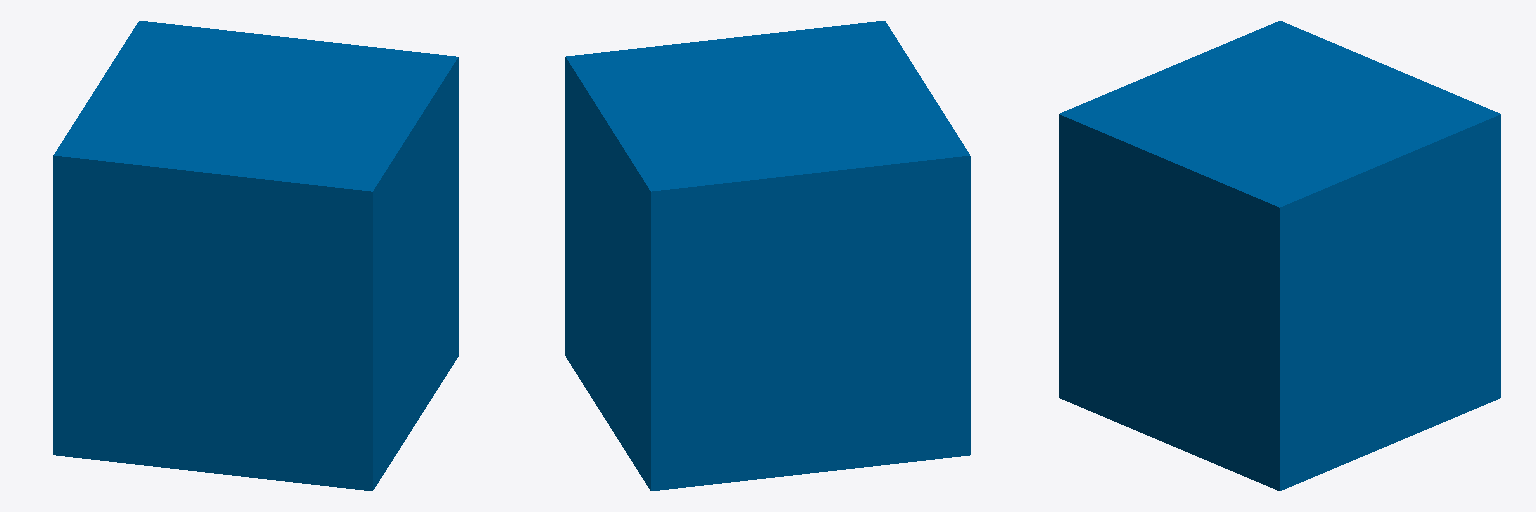
The robot description file, URDF, robot "panda":
<?xml version="1.0" ?>
<!-- =================================================================================== -->
<!-- |    This document was autogenerated by xacro from /opt/ros/kinetic/share/moveit_resources/panda/urdf/panda.urdf | -->
<!-- |    EDITING THIS FILE BY HAND IS NOT RECOMMENDED                                 | -->
<!-- =================================================================================== -->
<robot name="panda" xmlns:xacro="http://www.ros.org/wiki/xacro">
    <link name="panda_link0">
        <inertial>
            <origin rpy="0 0 0" xyz="0 0 0.05"/>
            <mass value="2.9"/>
            <inertia ixx="0.1" ixy="0" ixz="0" iyy="0.1" iyz="0" izz="0.1"/>
        </inertial>
        <visual>
            <geometry>
                <mesh filename="meshes/visual/link0.dae" />
            </geometry>
            <material name="panda_white">
              <color rgba="1. 1. 1. 1."/>
            </material>
        </visual>
        <collision>
            <geometry>
                <mesh filename="meshes/collision/link0.stl" />
            </geometry>
        </collision>
    </link>
    <link name="panda_link1">
        <inertial>
            <origin rpy="0 0 0" xyz="0 -0.04 -0.05"/>
            <mass value="2.7"/>
            <inertia ixx="0.1" ixy="0" ixz="0" iyy="0.1" iyz="0" izz="0.1"/>
        </inertial>
        <visual>
            <geometry>
                <mesh filename="meshes/visual/link1.dae" />
            </geometry>
            <material name="panda_white"/>
        </visual>
        <collision>
            <geometry>
                <mesh filename="meshes/collision/link1.stl" />
            </geometry>
            <material name="panda_white"/>
        </collision>
    </link>
    <joint name="panda_joint1" type="revolute">
        <safety_controller k_position="100.0" k_velocity="40.0" soft_lower_limit="-2.8973" soft_upper_limit="2.8973" />
        <origin rpy="0 0 0" xyz="0 0 0.333" />
        <parent link="panda_link0" />
        <child link="panda_link1" />
        <axis xyz="0 0 1" />
        <limit effort="87" lower="-2.9671" upper="2.9671" velocity="2.3925" />
    </joint>
    <link name="panda_link2">
        <inertial>
           <origin rpy="0 0 0" xyz="0 -0.04 0.06"/>
           <mass value="2.73"/>
           <inertia ixx="0.1" ixy="0" ixz="0" iyy="0.1" iyz="0" izz="0.1"/>
        </inertial>
        <visual>
            <geometry>
                <mesh filename="meshes/visual/link2.dae" />
            </geometry>
            <material name="panda_white"/>
        </visual>
        <collision>
            <geometry>
                <mesh filename="meshes/collision/link2.stl" />
            </geometry>
            <material name="panda_white"/>
        </collision>
    </link>
    <joint name="panda_joint2" type="revolute">
        <safety_controller k_position="100.0" k_velocity="40.0" soft_lower_limit="-1.7628" soft_upper_limit="1.7628" />
        <origin rpy="-1.57079632679 0 0" xyz="0 0 0" />
        <parent link="panda_link1" />
        <child link="panda_link2" />
        <axis xyz="0 0 1" />
        <limit effort="87" lower="-1.8326" upper="1.8326" velocity="2.3925" />
    </joint>
    <link name="panda_link3">
        <inertial>
           <origin rpy="0 0 0" xyz="0.01 0.01 -0.05"/>
           <mass value="2.04"/>
           <inertia ixx="0.1" ixy="0" ixz="0" iyy="0.1" iyz="0" izz="0.1"/>
        </inertial>
        <visual>
            <geometry>
                <mesh filename="meshes/visual/link3.dae" />
            </geometry>
            <material name="panda_red">
          		<color rgba="1. 1. 1. 1."/>
        		</material>
        </visual>
        <collision>
            <geometry>
                <mesh filename="meshes/collision/link3.stl" />
            </geometry>
            <material name="panda_white"/>
        </collision>
    </link>
    <joint name="panda_joint3" type="revolute">
        <safety_controller k_position="100.0" k_velocity="40.0" soft_lower_limit="-2.8973" soft_upper_limit="2.8973" />
        <origin rpy="1.57079632679 0 0" xyz="0 -0.316 0" />
        <parent link="panda_link2" />
        <child link="panda_link3" />
        <axis xyz="0 0 1" />
        <limit effort="87" lower="-2.9671" upper="2.9671" velocity="2.3925" />
    </joint>
    <link name="panda_link4">
        <inertial>
           <origin rpy="0 0 0" xyz="-0.03 0.03 0.02"/>
           <mass value="2.08"/>
           <inertia ixx="0.1" ixy="0" ixz="0" iyy="0.1" iyz="0" izz="0.1"/>
        </inertial>
        <visual>
            <geometry>
                <mesh filename="meshes/visual/link4.dae" />
            </geometry>
            <material name="panda_white"/>
        </visual>
        <collision>
            <geometry>
                <mesh filename="meshes/collision/link4.stl" />
            </geometry>
            <material name="panda_white"/>
        </collision>
    </link>
    <joint name="panda_joint4" type="revolute">
        <safety_controller k_position="100.0" k_velocity="40.0" soft_lower_limit="-3.0718" soft_upper_limit="0.0175" />
        <origin rpy="1.57079632679 0 0" xyz="0.0825 0 0" />
        <parent link="panda_link3" />
        <child link="panda_link4" />
        <axis xyz="0 0 1" />
        <limit effort="87" lower="-3.1416" upper="0.0873" velocity="2.3925" />
    </joint>
    <link name="panda_link5">
        <inertial>
           <origin rpy="0 0 0" xyz="0 0.04 -0.12"/>
           <mass value="3"/>
           <inertia ixx="0.1" ixy="0" ixz="0" iyy="0.1" iyz="0" izz="0.1"/>
        </inertial>
        <visual>
            <geometry>
                <mesh filename="meshes/visual/link5.dae" />
            </geometry>
            <material name="panda_white"/>
        </visual>
        <collision>
            <geometry>
                <mesh filename="meshes/collision/link5.stl" />
            </geometry>
            <material name="panda_white"/>
        </collision>
    </link>
    <joint name="panda_joint5" type="revolute">
        <safety_controller k_position="100.0" k_velocity="40.0" soft_lower_limit="-2.8973" soft_upper_limit="2.8973" />
        <origin rpy="-1.57079632679 0 0" xyz="-0.0825 0.384 0" />
        <parent link="panda_link4" />
        <child link="panda_link5" />
        <axis xyz="0 0 1" />
        <limit effort="12" lower="-2.9671" upper="2.9671" velocity="2.8710" />
    </joint>
    <link name="panda_link6">
        <inertial>
           <origin rpy="0 0 0" xyz="0.04 0 0"/>
           <mass value="1.3"/>
           <inertia ixx="0.1" ixy="0" ixz="0" iyy="0.1" iyz="0" izz="0.1"/>
        </inertial>
        <visual>
            <geometry>
                <mesh filename="meshes/visual/link6.dae" />
            </geometry>
            <material name="panda_white"/>
        </visual>
        <collision>
            <geometry>
                <mesh filename="meshes/collision/link6.stl" />
            </geometry>
            <material name="panda_white"/>
        </collision>
    </link>
    <joint name="panda_joint6" type="revolute">
        <safety_controller k_position="100.0" k_velocity="40.0" soft_lower_limit="-0.0175" soft_upper_limit="3.7525" />
        <origin rpy="1.57079632679 0 0" xyz="0 0 0" />
        <parent link="panda_link5" />
        <child link="panda_link6" />
        <axis xyz="0 0 1" />
        <limit effort="12" lower="-0.0873" upper="3.8223" velocity="2.8710" />
    </joint>
    <link name="panda_link7">
        <inertial>
           <origin rpy="0 0 0" xyz="0 0 0.08"/>
           <mass value=".2"/>
           <inertia ixx="0.1" ixy="0" ixz="0" iyy="0.1" iyz="0" izz="0.1"/>
        </inertial>
        <visual>
            <geometry>
                <mesh filename="meshes/visual/link7.dae" />
            </geometry>
            <material name="panda_white"/>
        </visual>
        <collision>
            <geometry>
                <mesh filename="meshes/collision/link7.stl" />
            </geometry>
            <material name="panda_white"/>
        </collision>
    </link>
    <joint name="panda_joint7" type="revolute">
        <safety_controller k_position="100.0" k_velocity="40.0" soft_lower_limit="-2.8973" soft_upper_limit="2.8973" />
        <origin rpy="1.57079632679 0 0" xyz="0.088 0 0" />
        <parent link="panda_link6" />
        <child link="panda_link7" />
        <axis xyz="0 0 1" />
        <limit effort="12" lower="-2.9671" upper="2.9671" velocity="2.8710" />
    </joint>
    <link name="panda_link8">
        <inertial>
           <origin rpy="0 0 0" xyz="0 0 0"/>
           <mass value="0.0"/>
           <inertia ixx="0.1" ixy="0" ixz="0" iyy="0.1" iyz="0" izz="0.1"/>
        </inertial>
    </link>
    <joint name="panda_joint8" type="fixed">
        <origin rpy="0 0 0" xyz="0 0 0.107" />
        <parent link="panda_link7" />
        <child link="panda_link8" />
        <axis xyz="0 0 0" />
    </joint>
    <joint name="panda_hand_joint" type="fixed">
        <parent link="panda_link8" />
        <child link="panda_hand" />
        <origin rpy="0 0 -0.785398163397" xyz="0 0 0" />
        <axis xyz="0 0 0" />
    </joint>
    <link name="panda_hand">
        <inertial>
           <origin rpy="0 0 0" xyz="0 0 0.04"/>
           <mass value=".81"/>
           <inertia ixx="0.1" ixy="0" ixz="0" iyy="0.1" iyz="0" izz="0.1"/>
        </inertial>
        <visual>
            <geometry>
                <mesh filename="meshes/visual/hand.dae" />
            </geometry>
            <material name="panda_white"/>
        </visual>
        <collision>
            <geometry>
                <mesh filename="meshes/collision/hand.stl" />
            </geometry>
            <material name="panda_white"/>
        </collision>
    </link>
    <link name="panda_leftfinger">
        <contact>
           <friction_anchor/>
           <stiffness value="30000.0"/>
           <damping value="1000.0"/>
           <spinning_friction value="0.1"/>
           <lateral_friction value="1.0"/>
        </contact>
        <inertial>
           <origin rpy="0 0 0" xyz="0 0.01 0.02"/>
           <mass value="0.1"/>
           <inertia ixx="0.1" ixy="0" ixz="0" iyy="0.1" iyz="0" izz="0.1"/>
        </inertial>
        <visual>
            <geometry>
                <mesh filename="meshes/visual/finger.dae" />
            </geometry>
            <material name="panda_white"/>
        </visual>
        <collision>
            <geometry>
                <mesh filename="meshes/collision/finger.stl" />
            </geometry>
            <material name="panda_white"/>
        </collision>
    </link>
    <link name="panda_rightfinger">
         <contact>
           <friction_anchor/>
           <stiffness value="30000.0"/>
           <damping value="1000.0"/>
           <spinning_friction value="0.1"/>
           <lateral_friction value="1.0"/>
        </contact>
        <inertial>
           <origin rpy="0 0 0" xyz="0 -0.01 0.02"/>
           <mass value="0.1"/>
           <inertia ixx="0.1" ixy="0" ixz="0" iyy="0.1" iyz="0" izz="0.1"/>
        </inertial>
        <visual>
            <origin rpy="0 0 3.14159265359" xyz="0 0 0" />
            <geometry>
                <mesh filename="meshes/visual/finger.dae" />
            </geometry>
            <material name="panda_white"/>
        </visual>
        <collision>
            <origin rpy="0 0 3.14159265359" xyz="0 0 0" />
            <geometry>
                <mesh filename="meshes/collision/finger.stl" />
            </geometry>
            <material name="panda_white"/>
        </collision>
    </link>
    <joint name="panda_finger_joint1" type="prismatic">
        <parent link="panda_hand" />
        <child link="panda_leftfinger" />
        <origin rpy="0 0 0" xyz="0 0 0.0584" />
        <axis xyz="0 1 0" />
        <limit effort="20" lower="0.0" upper="0.04" velocity="0.2" />
    </joint>
    <joint name="panda_finger_joint2" type="prismatic">
        <parent link="panda_hand" />
        <child link="panda_rightfinger" />
        <origin rpy="0 0 0" xyz="0 0 0.0584" />
        <axis xyz="0 -1 0" />
        <limit effort="20" lower="0.0" upper="0.04" velocity="0.2" />
        <mimic joint="panda_finger_joint1" />
    </joint>

    <link name="panda_virtual_ee_link">
	    <visual>
	      <geometry>
		<box size="0.01 0.01 0.01"/>
	      </geometry>
	      <origin rpy="0 0 0" xyz="0.0 0 0"/>
	    </visual>
        <inertial>
          <origin rpy="0 0 0" xyz="0 0 0"/>
           <mass value="0.0"/>
           <inertia ixx="0.1" ixy="0" ixz="0" iyy="0.1" iyz="0" izz="0.1"/>
        </inertial>
   </link>
   <joint name="panda_virtual_ee_joint" type="fixed">
    <parent link="panda_hand"/>
    <child link="panda_virtual_ee_link"/>
    <origin rpy="0.0 0.0 -1.57" xyz="0.0 0. 0.1"/>
  </joint>
</robot>

--- Facts derived from the render (not from the file) ---
3 views of the same robot in one strip: view 1: azimuth 30°, elevation 25°; view 2: azimuth 150°, elevation 25°; view 3: azimuth 270°, elevation 25° (orthographic).
Robot: panda — 13 links, 12 joints (7 revolute, 2 prismatic, 3 fixed); root link panda_link0; default pose: all joints at 0.
Visible links, largest first — view 1: panda_virtual_ee_link; view 2: panda_virtual_ee_link; view 3: panda_virtual_ee_link.
Boxes of the visible links, x1=… form: panda_virtual_ee_link: x1=53, y1=21, x2=458, y2=490; panda_virtual_ee_link: x1=565, y1=21, x2=970, y2=490; panda_virtual_ee_link: x1=1059, y1=21, x2=1500, y2=490.
Bounding box of the posed robot: 0.0141 × 0.0141 × 0.01 m (x, y, z).
0 mesh visuals loaded from 10 distinct referenced files (none loaded); not drawn: 11 (reference not matched to a file when rendering).